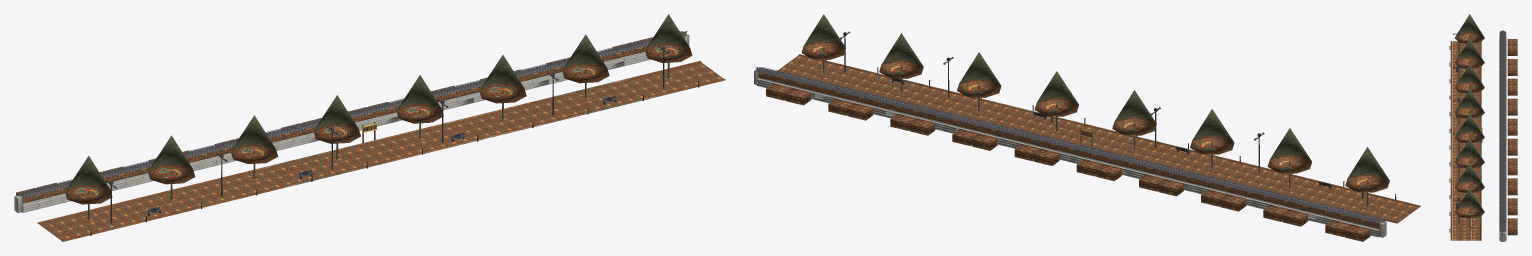
3 renders of one model, left to right at view 1: azimuth 30°, elevation 25°; view 2: azimuth 150°, elevation 25°; view 3: azimuth 270°, elevation 25°, orthographic. The views are drawn at different scales.
Visible parts, largest first — view 1: 11140_02_04519_005_05__sidewalk_paving_brick, 11140_02_04519_005_06__ginkgo_row_and_inner_grove, 11140_02_04519_005_01__granite_ashlar_base_3courses, 11140_02_04519_005_03__giwa_wall_cap_tile, 11140_02_04519_005_02__plaster_wall_body, 11140_02_04519_005_05__bollard_lamp_bench_iron; view 2: 11140_02_04519_005_06__ginkgo_row_and_inner_grove, 11140_02_04519_005_05__sidewalk_paving_brick, 11140_02_04519_005_03__giwa_wall_cap_tile, 11140_02_04519_005_02__plaster_wall_body, 11140_02_04519_005_01__granite_ashlar_base_3courses, 11140_02_04519_005_05__bollard_lamp_bench_iron; view 3: 11140_02_04519_005_06__ginkgo_row_and_inner_grove, 11140_02_04519_005_05__sidewalk_paving_brick, 11140_02_04519_005_03__giwa_wall_cap_tile, 11140_02_04519_005_01__granite_ashlar_base_3courses, 11140_02_04519_005_05__bollard_lamp_bench_iron, 11140_02_04519_005_02__plaster_wall_body.
Part boxes in pixels (bbox=[...]): 11140_02_04519_005_05__sidewalk_paving_brick: bbox=[37, 61, 725, 241]; 11140_02_04519_005_06__ginkgo_row_and_inner_grove: bbox=[16, 14, 692, 223]; 11140_02_04519_005_01__granite_ashlar_base_3courses: bbox=[14, 33, 689, 213]; 11140_02_04519_005_03__giwa_wall_cap_tile: bbox=[17, 31, 686, 198]; 11140_02_04519_005_02__plaster_wall_body: bbox=[18, 35, 684, 203]; 11140_02_04519_005_05__bollard_lamp_bench_iron: bbox=[90, 45, 699, 235]; 11140_02_04519_005_06__ginkgo_row_and_inner_grove: bbox=[766, 14, 1389, 241]; 11140_02_04519_005_05__sidewalk_paving_brick: bbox=[776, 54, 1420, 223]; 11140_02_04519_005_03__giwa_wall_cap_tile: bbox=[756, 67, 1383, 223]; 11140_02_04519_005_02__plaster_wall_body: bbox=[758, 70, 1382, 228]; 11140_02_04519_005_01__granite_ashlar_base_3courses: bbox=[754, 68, 1386, 237]; 11140_02_04519_005_05__bollard_lamp_bench_iron: bbox=[825, 31, 1396, 199]; 11140_02_04519_005_06__ginkgo_row_and_inner_grove: bbox=[1454, 14, 1517, 235]; 11140_02_04519_005_05__sidewalk_paving_brick: bbox=[1450, 41, 1481, 240]; 11140_02_04519_005_03__giwa_wall_cap_tile: bbox=[1499, 31, 1506, 231]; 11140_02_04519_005_01__granite_ashlar_base_3courses: bbox=[1499, 31, 1506, 241]; 11140_02_04519_005_05__bollard_lamp_bench_iron: bbox=[1449, 32, 1464, 232]; 11140_02_04519_005_02__plaster_wall_body: bbox=[1481, 33, 1504, 231].
Size of the model in its own units: 97.27 by 9 by 13.86.
7 materials, 7 textured.
